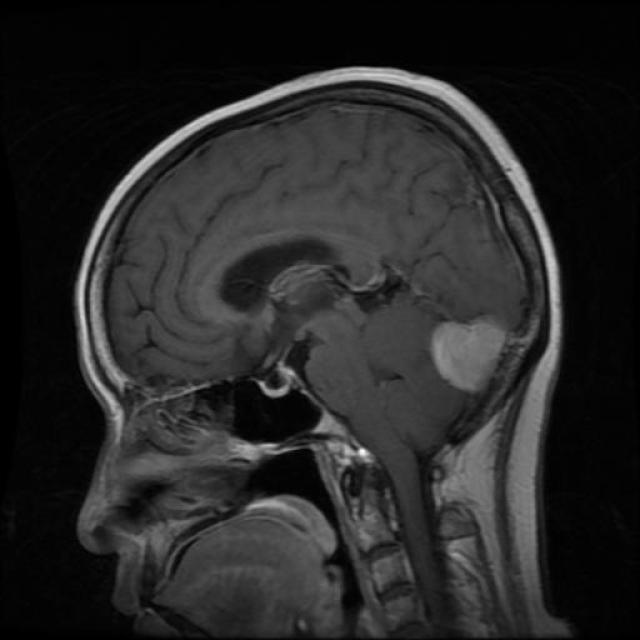meningioma: (430, 318, 509, 391)
